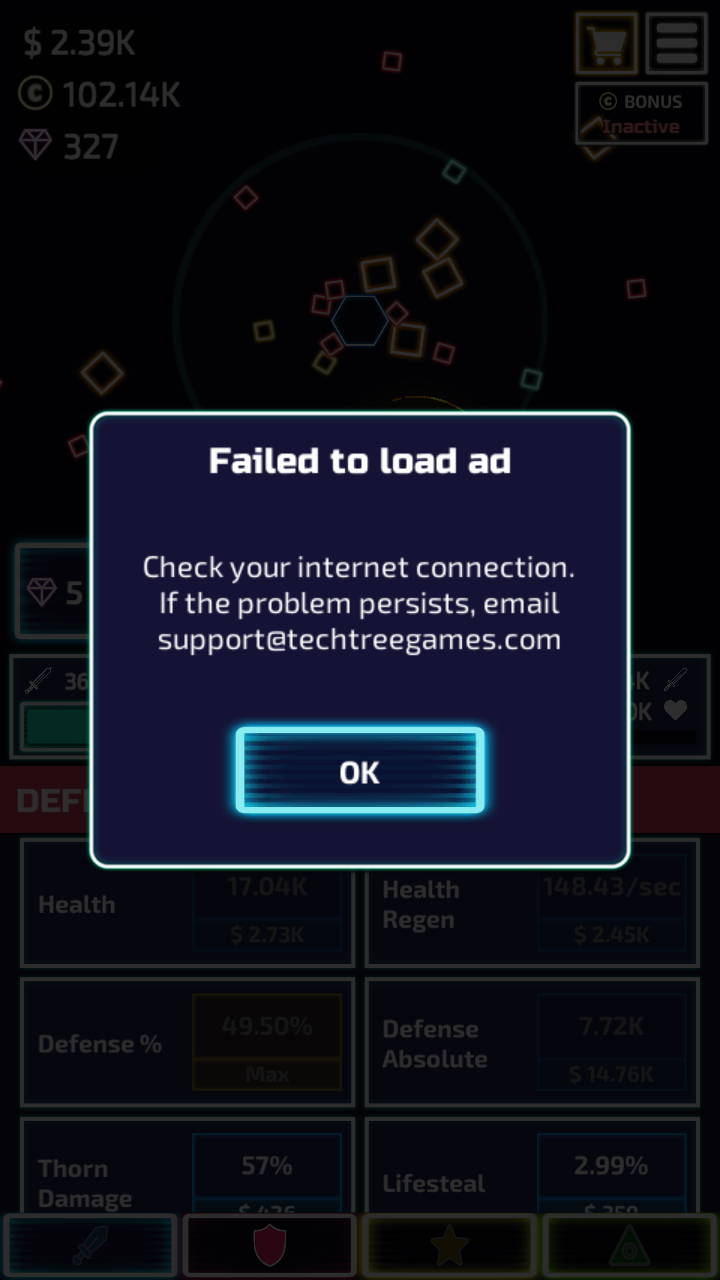B_Failed_To_Load_Ad_Ok: (226, 719, 493, 821)
B_Gem_Ad: (9, 541, 93, 641)
B_Menu_Closed: (566, 12, 709, 71)
B_Slot: (18, 840, 358, 972), (18, 984, 354, 1111), (365, 981, 698, 1109), (370, 840, 700, 965), (367, 1122, 698, 1219), (21, 1123, 352, 1219)
B_Slot_Button: (522, 851, 689, 954), (183, 865, 352, 961), (529, 997, 689, 1098), (190, 997, 345, 1100), (532, 1134, 687, 1219), (190, 1136, 338, 1221)
B_Slot_Label: (370, 1009, 502, 1082), (23, 1018, 173, 1070), (27, 1154, 150, 1216), (372, 869, 475, 936), (367, 1159, 509, 1207), (23, 879, 128, 928)
B_Slot_Maxed: (183, 997, 345, 1104)
B_Slot_Price: (214, 913, 328, 960), (550, 1056, 668, 1090), (555, 917, 659, 952)
B_Slot_Value: (527, 865, 682, 903), (554, 1145, 662, 1186), (205, 1006, 320, 1043), (208, 863, 319, 901), (552, 1006, 657, 1045), (214, 1148, 306, 1184)
B_Tab_Defense: (628, 766, 720, 835), (4, 769, 93, 830)
